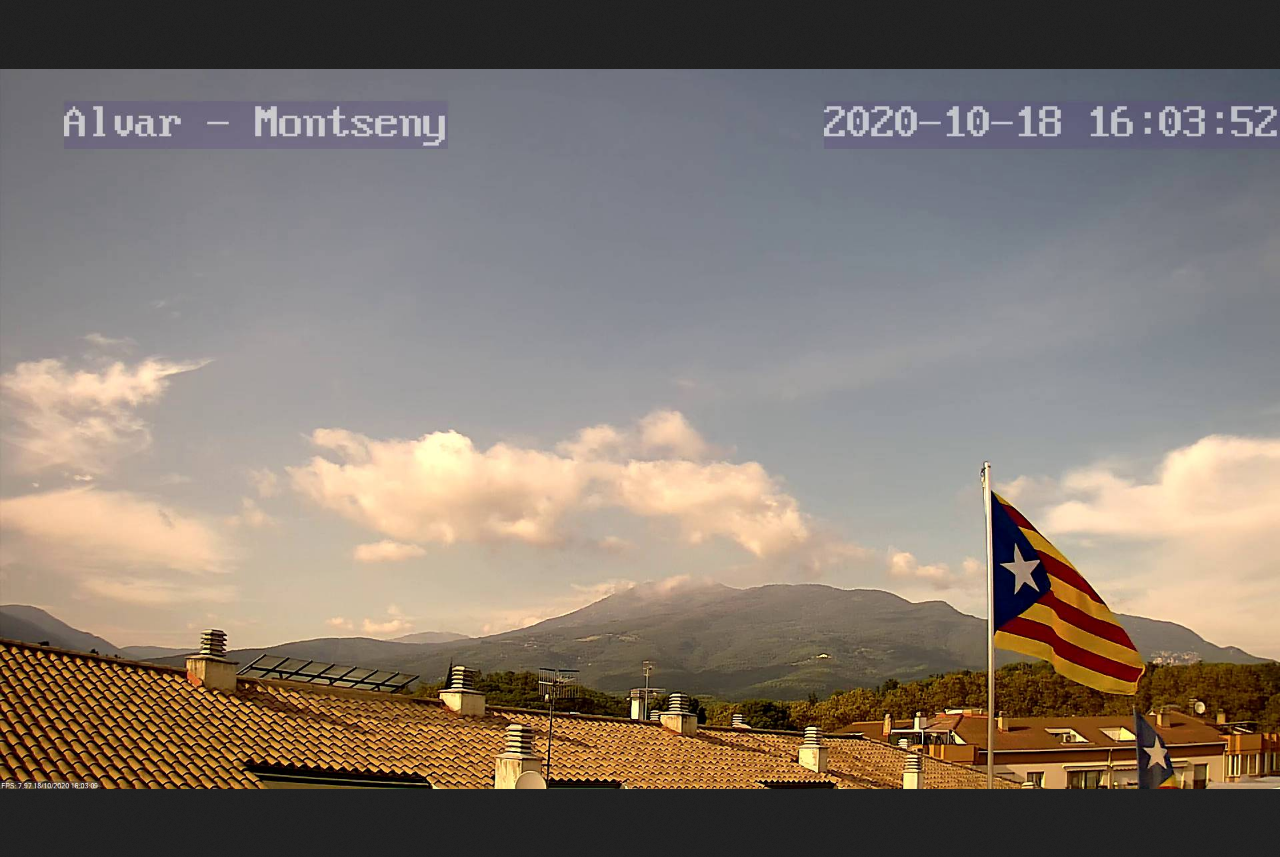maybe: (985, 479, 1144, 697)
